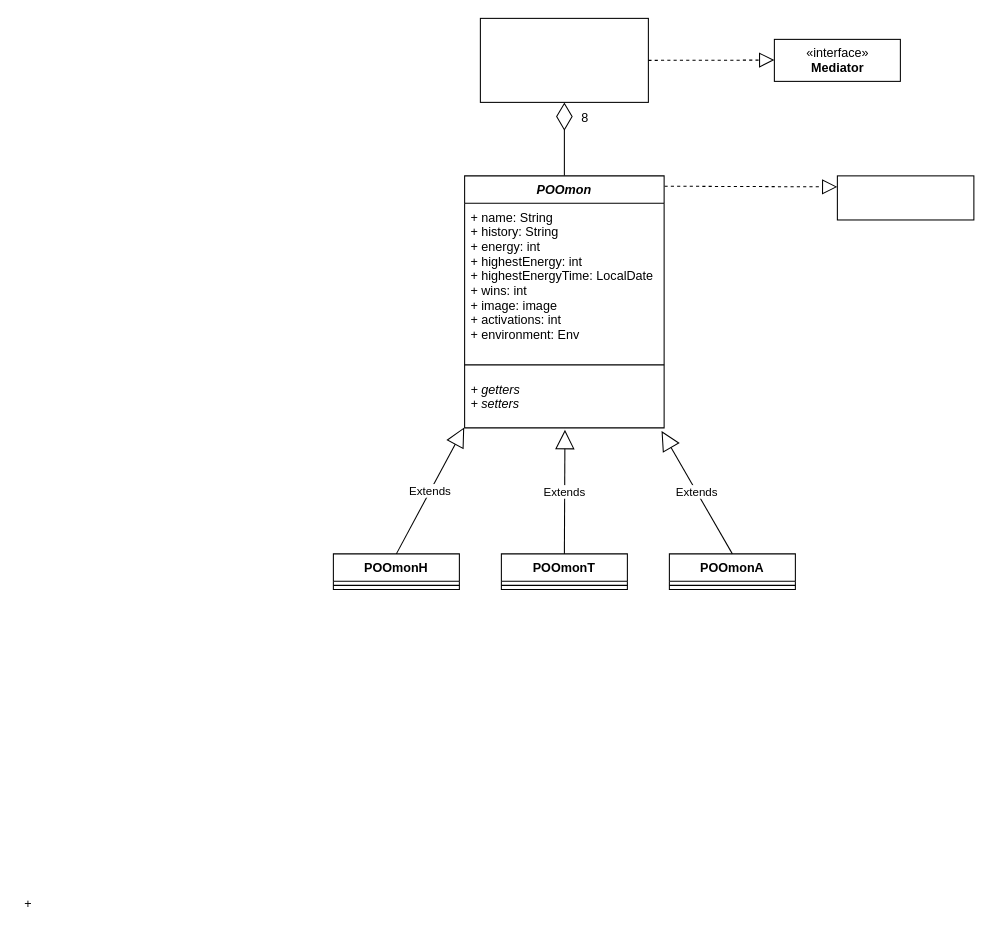
The diagram is 992 pixels wide and 939 high, and some of its shapes have lost their labels. The shapes that lost their labels are listed below. From the top down, each one's box as (x1, y1, x2, y2) in pixels, then its label:
(479, 17, 648, 102): Tabuleiro + env : Env + roundsNumber: int + winner: POOmon
(836, 175, 974, 220): «interface» POOmonBehavior
